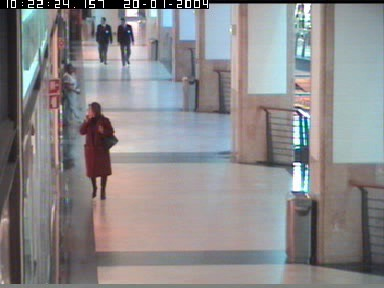person: (78, 102, 117, 200), (63, 63, 81, 125), (95, 16, 113, 65), (117, 16, 134, 65)
